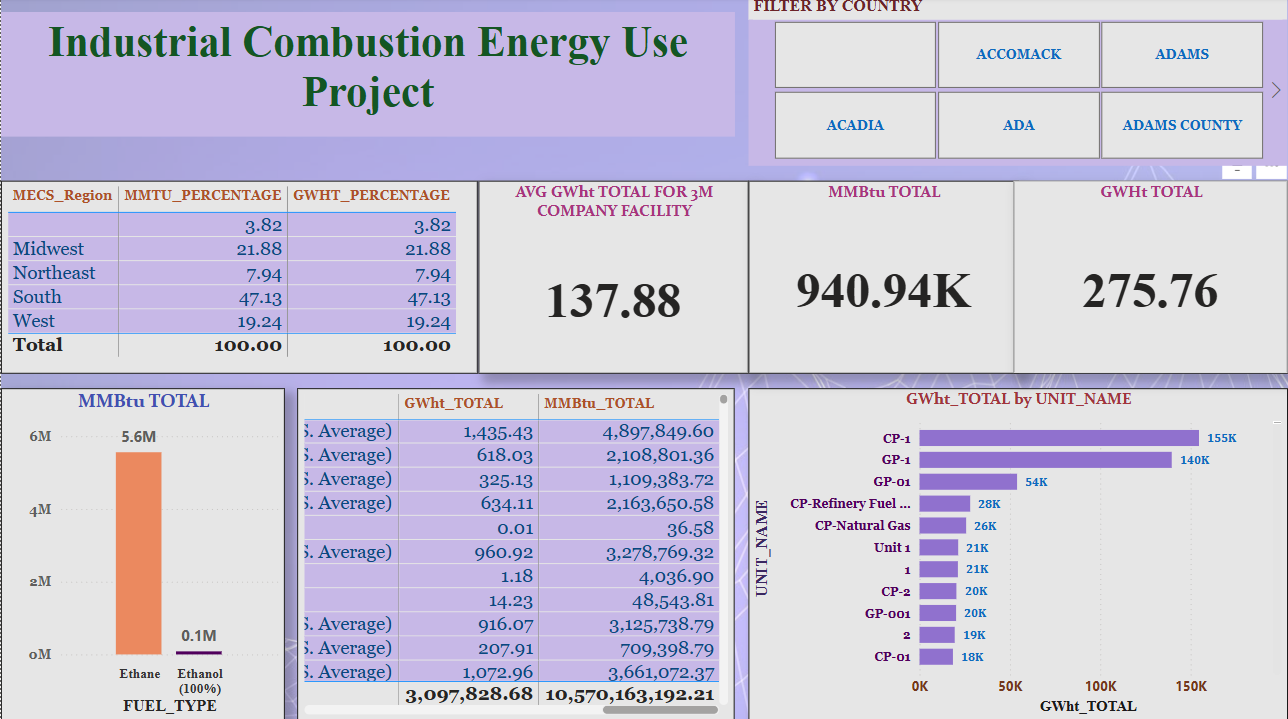

This screenshot's page, from the dashboard's own definition file:
{"tool":"powerbi","page":{"name":"ICE PROJECT","canvas":[1280,720],"ordinal":0},"visuals":[{"type":"clusteredColumnChart","title":"MMBtu TOTAL","fields":{"Y":["Sum(ICE PROJECT.MMBtu_TOTAL)"],"Category":["ICE PROJECT.FUEL_TYPE"]},"box":[0,389.4,282.4,330.9],"z":0},{"type":"card","title":"AVG GWht TOTAL FOR 3M COMPANY FACILITY","fields":{"Values":["Avg(ICE PROJECT.GWht_TOTAL)"]},"box":[474.8,182.5,269,192.1],"z":1000},{"type":"barChart","fields":{"Category":["ICE PROJECT.UNIT_NAME"],"Y":["Sum(ICE PROJECT.GWht_TOTAL)"]},"box":[743.7,389.7,536.5,330.7],"z":2000},{"type":"tableEx","fields":{"Values":["ICE PROJECT.MECS_Region","ICE PROJECT.MMTU_PERCENTAGE","ICE PROJECT.GWHT_PERCENTAGE"]},"box":[0,182.5,474.8,192.1],"z":3000},{"type":"tableEx","fields":{"Values":["ICE PROJECT.PRIMARY_NAICS_TITLE","ICE PROJECT.FACILITY_NAME","ICE PROJECT.FUEL_TYPE","Sum(ICE PROJECT.GWht_TOTAL)","Sum(ICE PROJECT.MMBtu_TOTAL)"]},"box":[295,389.7,435,330.7],"z":4000},{"type":"card","title":"MMBtu TOTAL","fields":{"Values":["Sum(ICE PROJECT.MMBtu_TOTAL)"]},"box":[743.7,182.5,269,192.1],"z":5000},{"type":"card","title":"GWHt TOTAL","fields":{"Values":["Sum(ICE PROJECT.GWht_TOTAL)"]},"box":[1007.2,182.5,273.1,192.1],"z":6000},{"type":"slicer","title":"FILTER BY COUNTRY","fields":{"Values":["ICE PROJECT.COUNTY"]},"box":[743.7,15.1,536.5,167.4],"z":6001},{"type":"textbox","box":[0,14.9,730.2,124.4],"z":6002}]}

Visuals, with their boxes in screenshot pixels (x1, y1, x2, y2), scaled from the page's 1280x720 canvas onto the 1288x719 screenshot:
"MMBtu TOTAL" clusteredColumnChart: 0, 389, 284, 718
"AVG GWht TOTAL FOR 3M COMPANY FACILITY" card: 478, 182, 748, 374
barChart - ICE PROJECT.UNIT_NAME x Sum(ICE PROJECT.GWht_TOTAL): 748, 389, 1287, 718
tableEx - ICE PROJECT.MECS_Region x ICE PROJECT.MMTU_PERCENTAGE: 0, 182, 478, 374
tableEx - ICE PROJECT.PRIMARY_NAICS_TITLE x ICE PROJECT.FACILITY_NAME: 297, 389, 735, 718
"MMBtu TOTAL" card: 748, 182, 1019, 374
"GWHt TOTAL" card: 1013, 182, 1287, 374
"FILTER BY COUNTRY" slicer: 748, 15, 1287, 182
textbox: 0, 15, 735, 139
